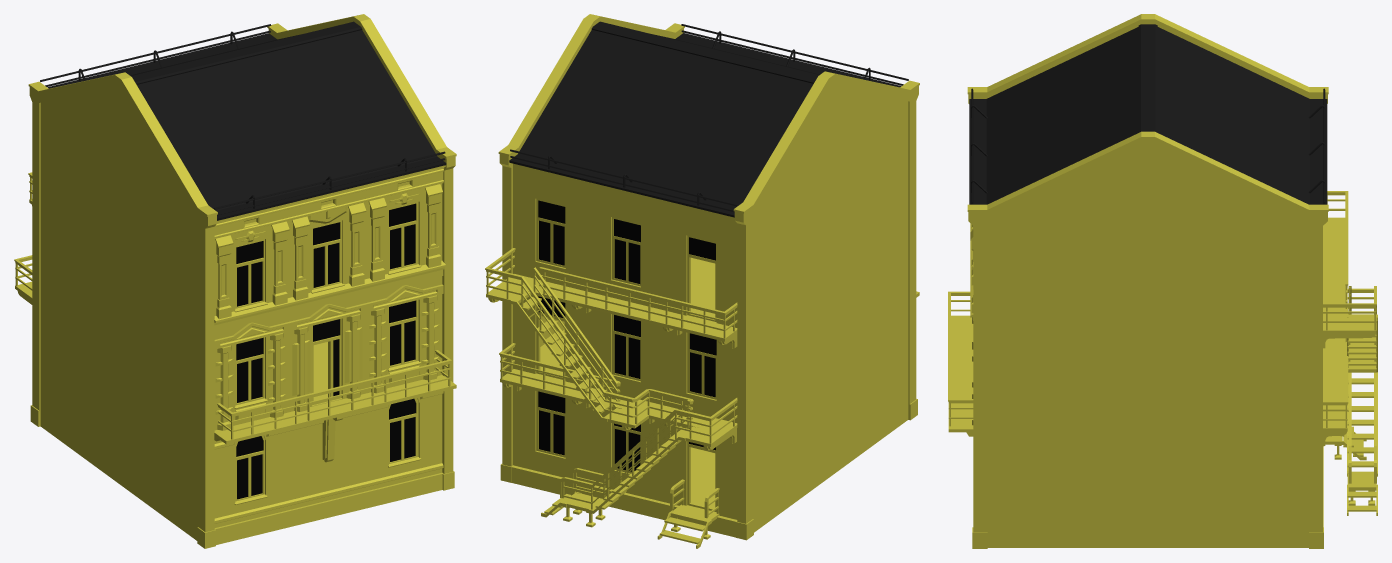
Rendered from SM_second_house_2.fbx.
3 views of the same model, side by side, from view 1: azimuth 30°, elevation 25°; view 2: azimuth 150°, elevation 25°; view 3: azimuth 270°, elevation 25° (orthographic). The views are drawn at different scales.
Visible parts, largest first — view 1: Cylinder_23; view 2: Cylinder_23; view 3: Cylinder_23.
Boxes of the visible parts, box(x1,y1,x2,y2) form: Cylinder_23: box(14, 14, 456, 548); Cylinder_23: box(485, 14, 919, 548); Cylinder_23: box(948, 14, 1377, 548).
Size of the model in its own units: 814 by 1271 by 1201.
